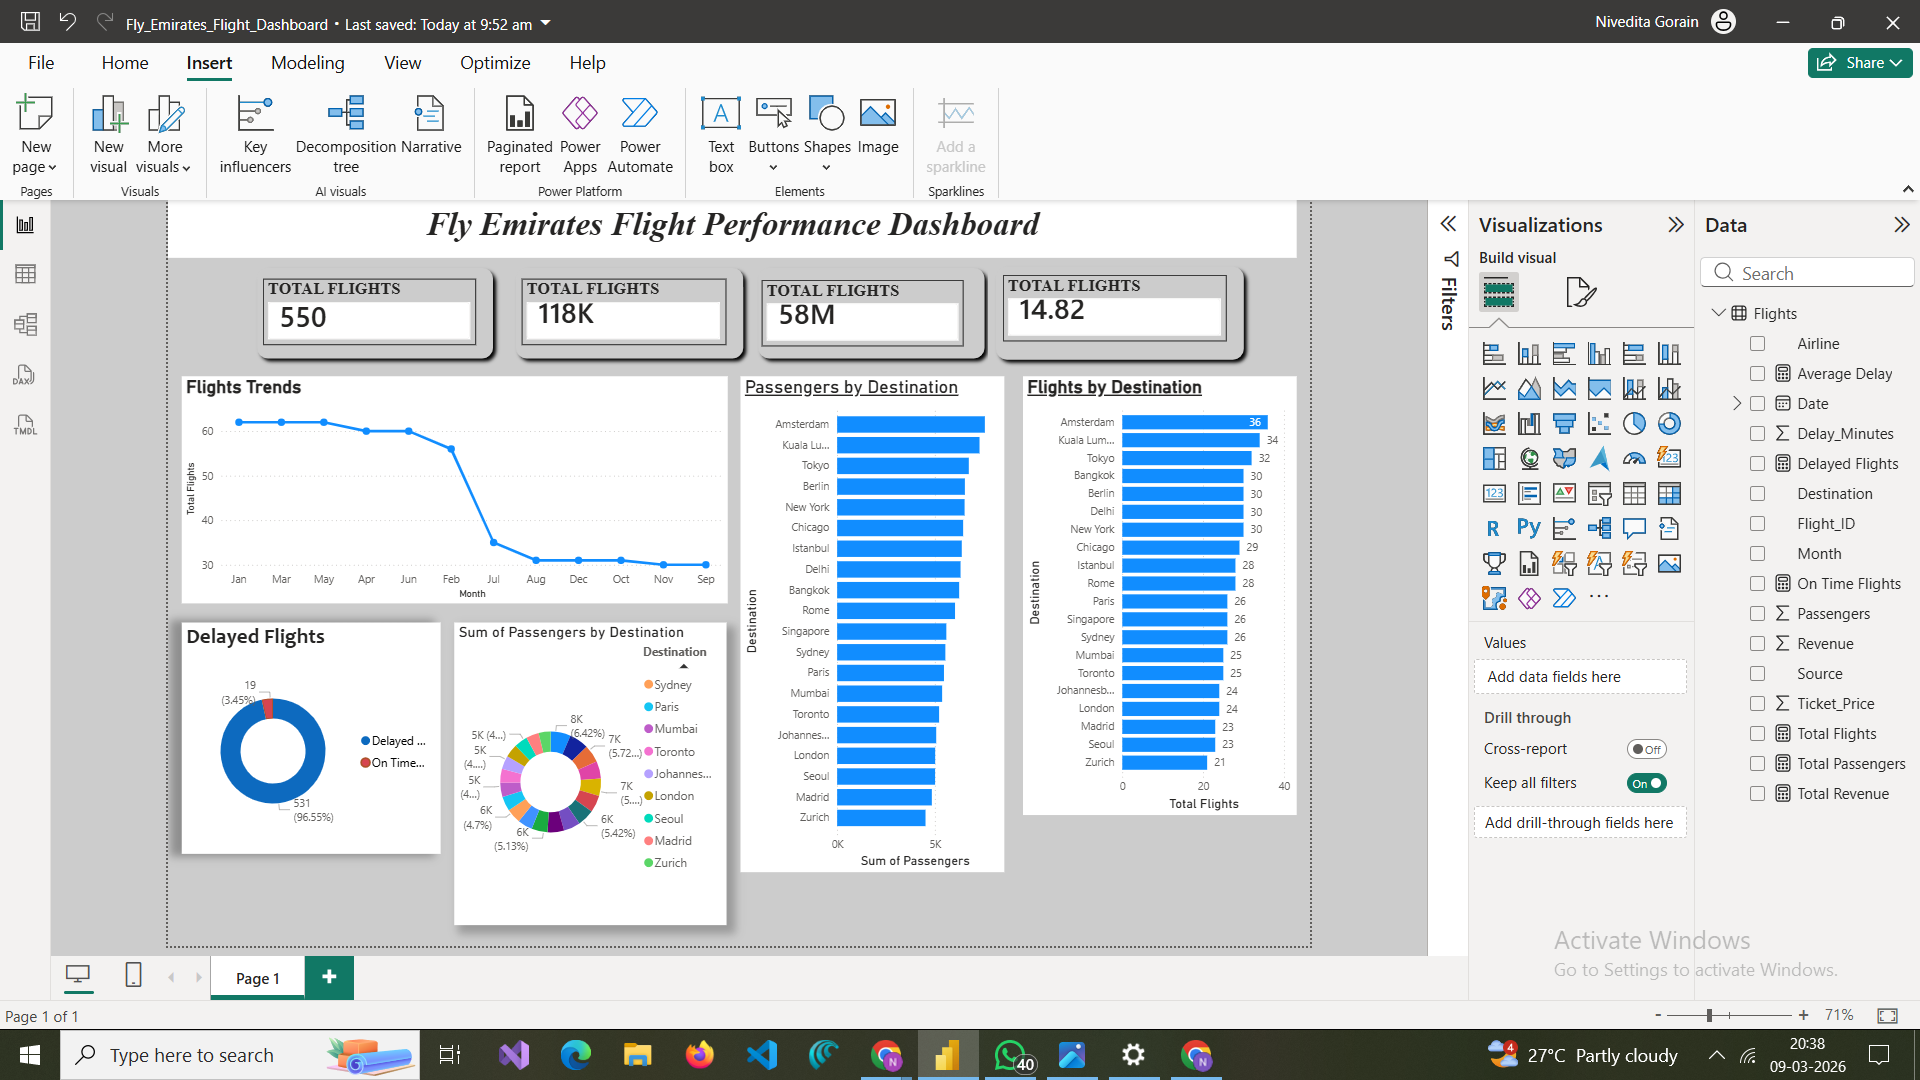

The page's visual inventory and layout, read from the dashboard file:
{"tool":"powerbi","page":{"name":"Page 1","canvas":[1294,846],"ordinal":0},"visuals":[{"type":"textbox","box":[0,0,1280.3,65.9],"z":0},{"type":"shape","box":[91.9,67.8,285.4,120.8],"z":1000},{"type":"cardVisual","title":"TOTAL FLIGHTS","fields":{"Data":["Flights.Total Flights"]},"box":[107,89.7,241.5,75.5],"z":2000},{"type":"shape","box":[385,67.8,275.8,120.8],"z":3000},{"type":"cardVisual","title":"TOTAL FLIGHTS","fields":{"Data":["Flights.Total Passengers"]},"box":[401.5,89.7,231.9,75.5],"z":4000},{"type":"shape","box":[660.9,68.1,274.4,120.8],"z":5000},{"type":"cardVisual","title":"TOTAL FLIGHTS","fields":{"Data":["Flights.Total Revenue"]},"box":[673.2,90,229.2,75.5],"z":6000},{"type":"shape","box":[929.8,66.4,299.1,123.5],"z":7000},{"type":"cardVisual","title":"TOTAL FLIGHTS","fields":{"Data":["Flights.Average Delay"]},"box":[946.3,85.6,253.9,75.5],"z":8000},{"type":"lineChart","title":"Flights Trends","fields":{"Category":["Flights.Month"],"Y":["Flights.Total Flights"]},"box":[15.1,200.3,618.9,258],"z":9000},{"type":"clusteredBarChart","title":"Flights by Destination","fields":{"Category":["Flights.Destination"],"Y":["Flights.Total Flights"]},"box":[969.6,199.9,310.4,497.6],"z":10000},{"type":"donutChart","title":"Delayed Flights ","fields":{"Y":["Flights.Delayed Flights","Flights.On Time Flights"]},"box":[15.6,479.1,293.4,262.3],"z":11000},{"type":"donutChart","fields":{"Category":["Flights.Destination"],"Y":["Sum(Flights.Passengers)"]},"box":[324.6,479.1,309,343.1],"z":11001},{"type":"clusteredBarChart","title":" Passengers by Destination","fields":{"Category":["Flights.Destination"],"Y":["Sum(Flights.Passengers)"]},"box":[649.2,199.9,299.1,562.8],"z":11002}]}

Visuals, with their boxes on the page's 1294x846 design canvas (x1, y1, x2, y2). These are canvas units, not pixel positions in the 1920x1080 screenshot, which may show the page scaled, cropped or inside an application window:
textbox: l=0, t=0, r=1280, b=66
shape: l=92, t=68, r=377, b=189
"TOTAL FLIGHTS" cardVisual: l=107, t=90, r=348, b=165
shape: l=385, t=68, r=661, b=189
"TOTAL FLIGHTS" cardVisual: l=402, t=90, r=633, b=165
shape: l=661, t=68, r=935, b=189
"TOTAL FLIGHTS" cardVisual: l=673, t=90, r=902, b=166
shape: l=930, t=66, r=1229, b=190
"TOTAL FLIGHTS" cardVisual: l=946, t=86, r=1200, b=161
"Flights Trends" lineChart: l=15, t=200, r=634, b=458
"Flights by Destination" clusteredBarChart: l=970, t=200, r=1280, b=698
"Delayed Flights " donutChart: l=16, t=479, r=309, b=741
donutChart - Flights.Destination x Sum(Flights.Passengers): l=325, t=479, r=634, b=822
" Passengers by Destination" clusteredBarChart: l=649, t=200, r=948, b=763
